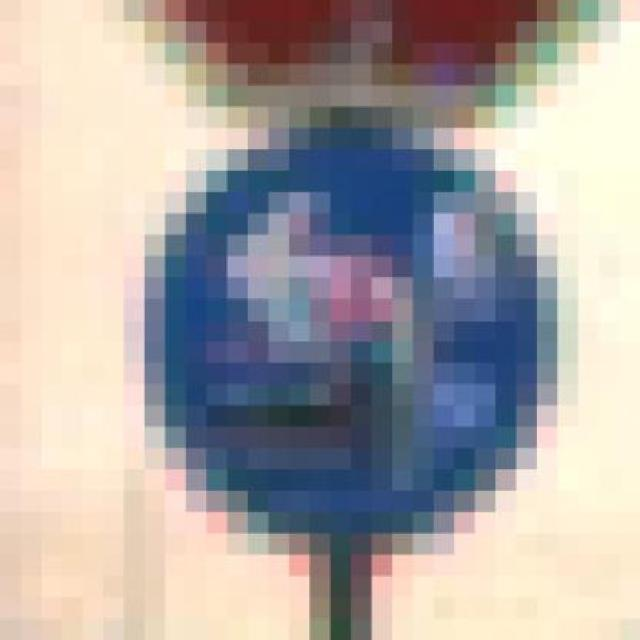Turn left ahead: (82, 107, 578, 576)
